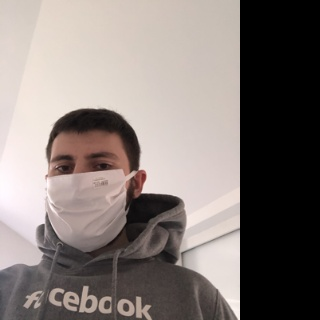with_mask: (46, 145, 132, 252)
